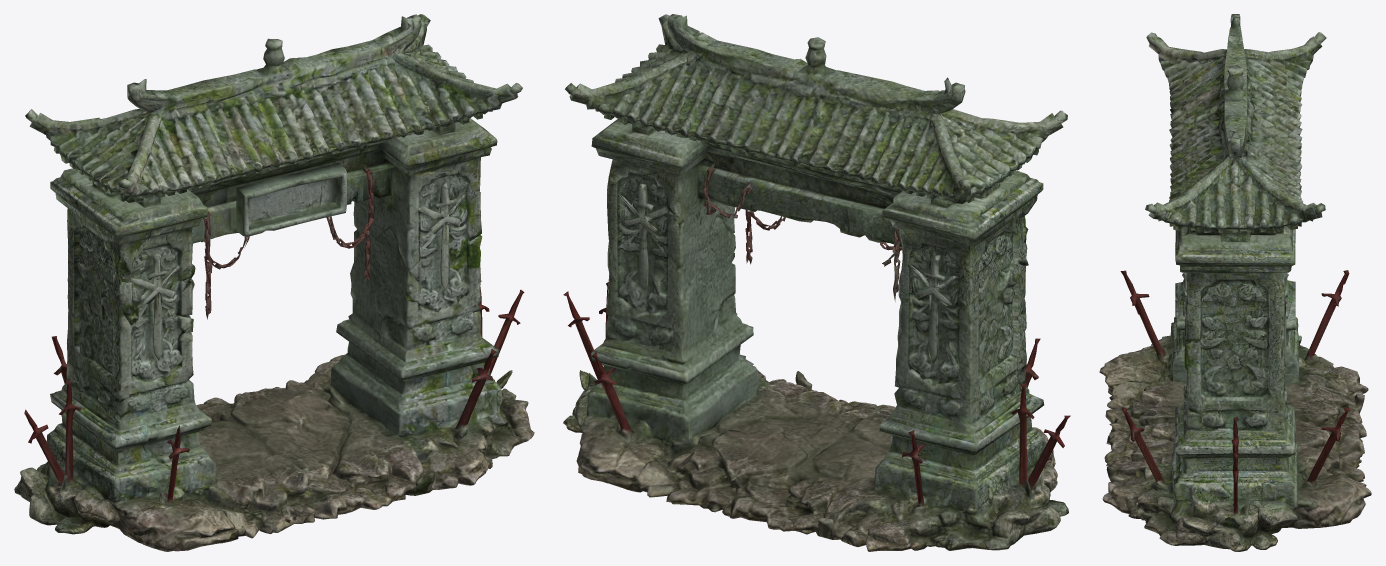
Rendered from tomb_gate.glb.
3 renders of one model, left to right at view 1: azimuth 30°, elevation 25°; view 2: azimuth 150°, elevation 25°; view 3: azimuth 270°, elevation 25°, orthographic. The views are drawn at different scales.
Parts seen in each view (by area): view 1: clean; view 2: clean; view 3: clean.
Boxes of the visible parts, box(x1,y1,x2,y2) form: clean: box(14, 14, 534, 551); clean: box(563, 14, 1070, 551); clean: box(1099, 14, 1371, 551).
Bounding box in the file's own units: 184 × 150 × 96.2.
1 material, 1 textured.
